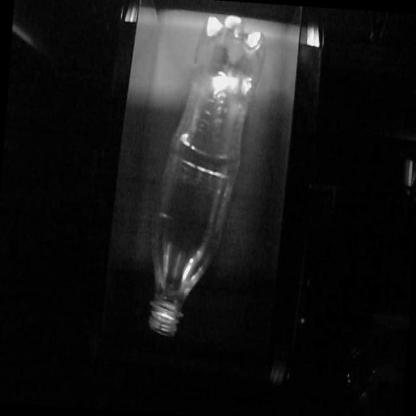Plastic Bottle: (150, 15, 262, 336)
